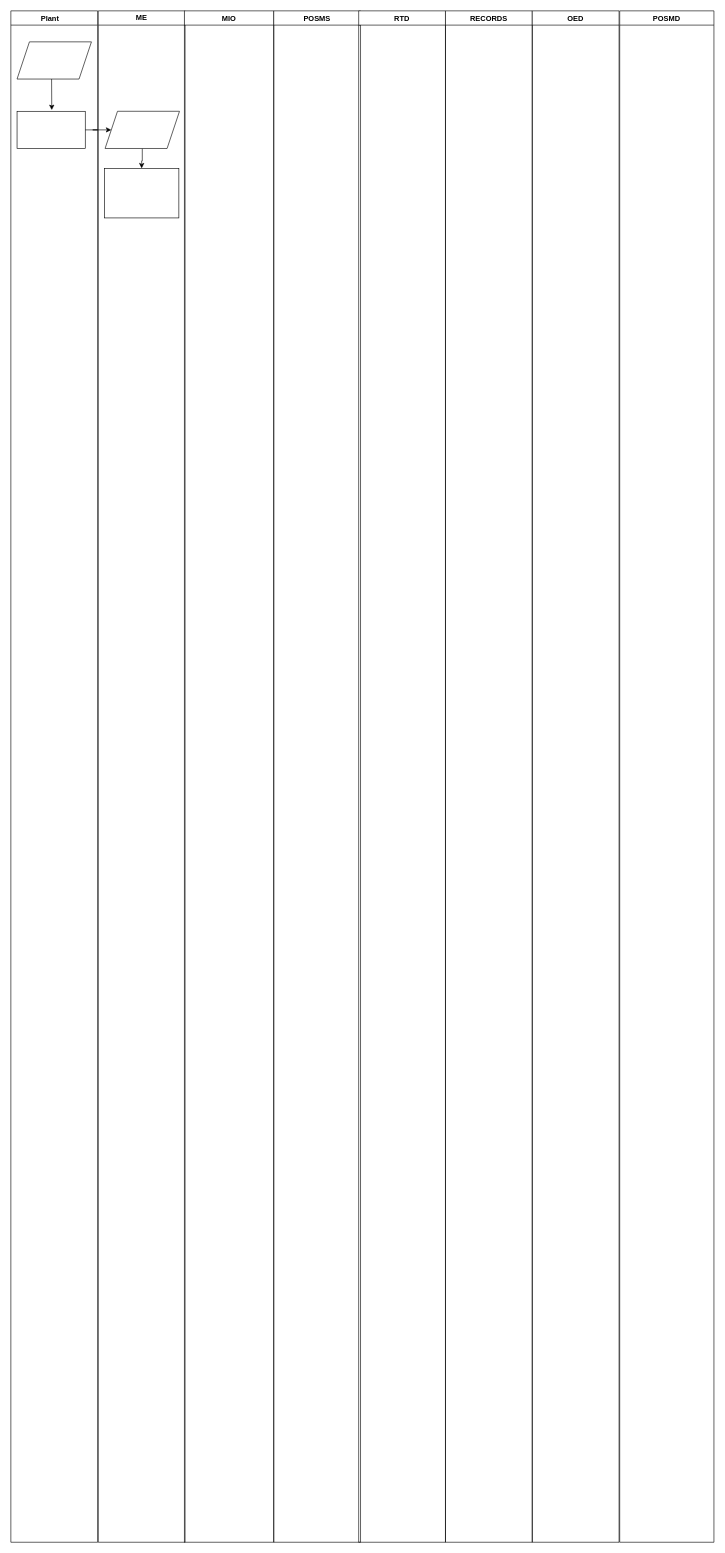
The diagram is 725 pixels wide and 1553 high, and some of its shapes have lost their labels. Here are the shapes that lost their labels. From the top down, the centre of each, then its label:
[53,60]: Number of Live Animals
[50,129]: Submit Documentary Requirements
[141,129]: Documentary Requirements
[141,193]: Checking of Shipping Permit (VHC, SP, COO, COT)
